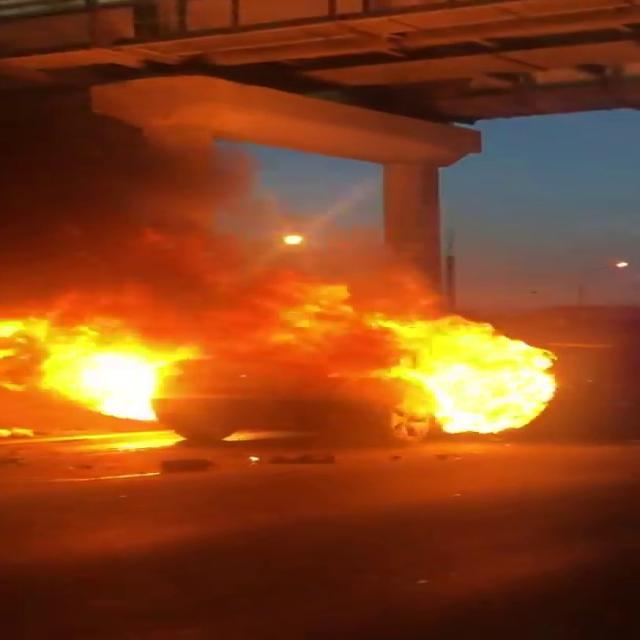Fire: (292, 291, 580, 441), (0, 304, 213, 434)
Smoke: (0, 75, 339, 318)
